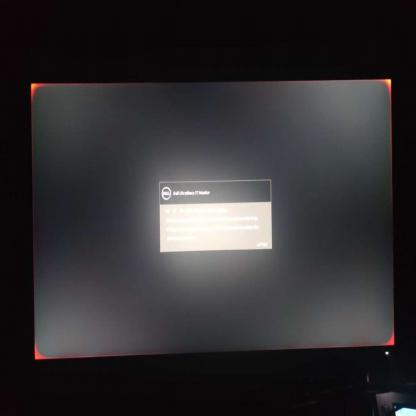fade: (33, 75, 395, 363)
